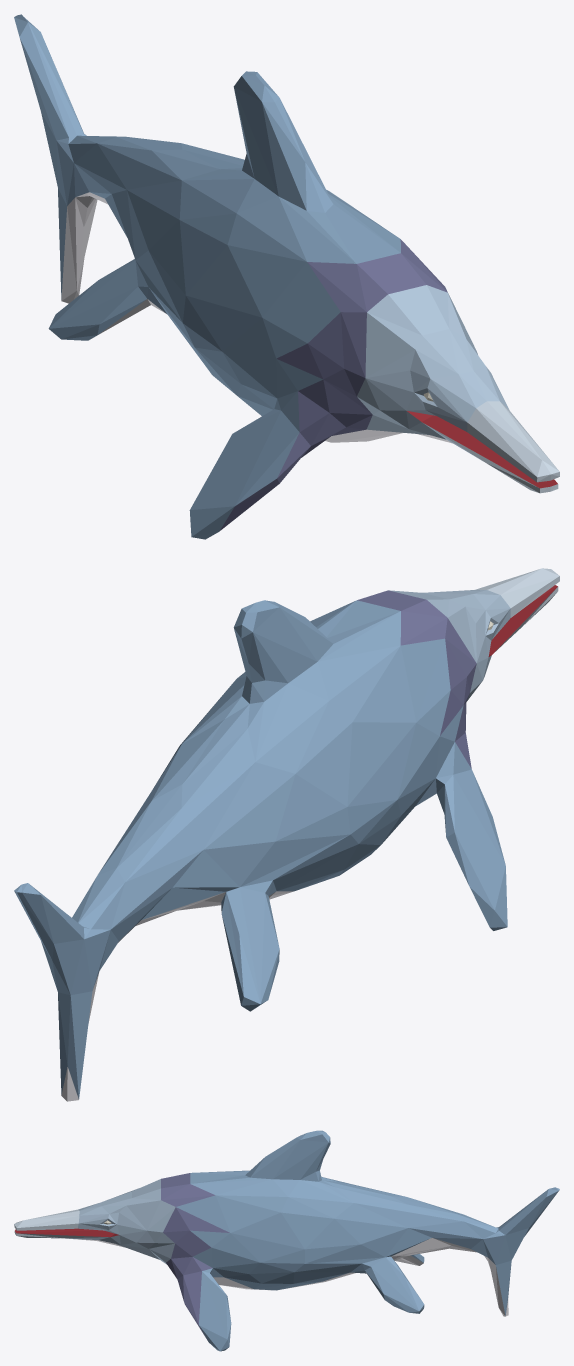
The model's file is RW_LP_DN_Ichthyosaurus.fbx.
The picture shows the model from 3 angles, top to bottom: view 1: azimuth 30°, elevation 25°; view 2: azimuth 150°, elevation 25°; view 3: azimuth 270°, elevation 25°; orthographic projection. The views are drawn at different scales.
Visible parts, largest first — view 1: RW_LP_DN_Ichthyosaurus.001; view 2: RW_LP_DN_Ichthyosaurus.001; view 3: RW_LP_DN_Ichthyosaurus.001.
Part boxes in pixels (<box>): RW_LP_DN_Ichthyosaurus.001: <box>14,14,559,539</box>; RW_LP_DN_Ichthyosaurus.001: <box>14,568,559,1101</box>; RW_LP_DN_Ichthyosaurus.001: <box>14,1130,559,1351</box>.
Size of the model in its own units: 2.87 by 3.15 by 8.39.
